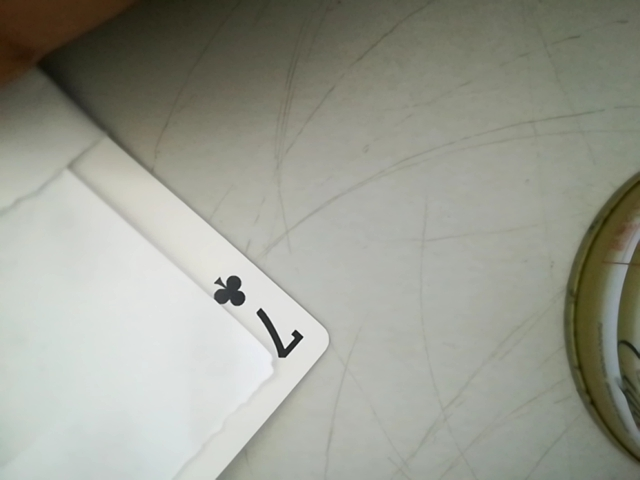mh 7: (212, 262, 305, 368)
